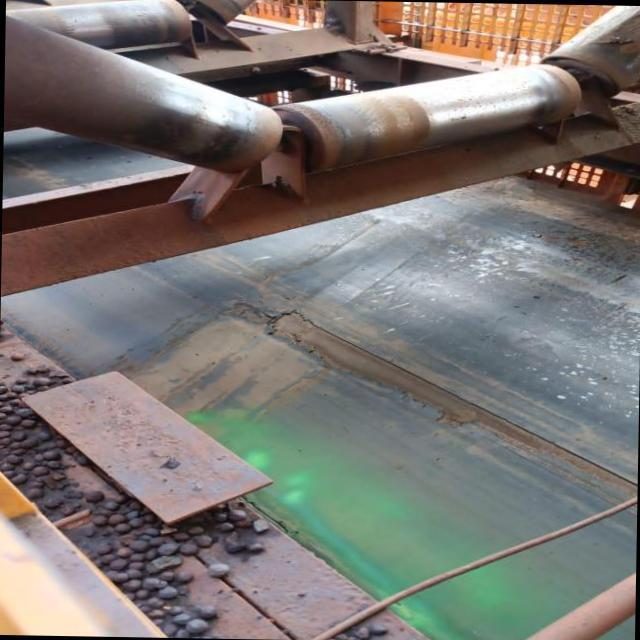Tear: (221, 301, 638, 503)
